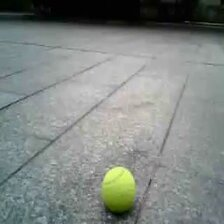tennis: (100, 168, 135, 212)
